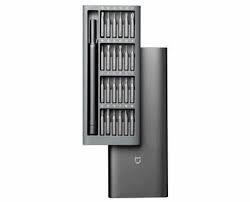screwdriver: (88, 17, 98, 135), (89, 18, 97, 135)
